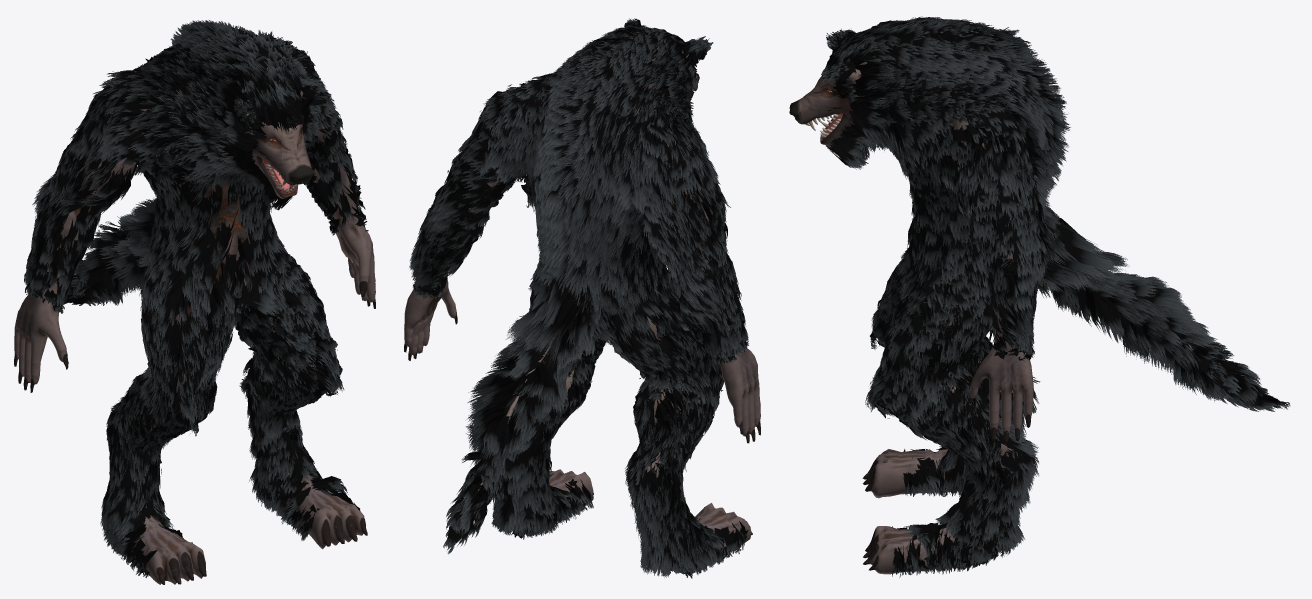
3 views of the same model, side by side, from view 1: azimuth 30°, elevation 25°; view 2: azimuth 150°, elevation 25°; view 3: azimuth 270°, elevation 25° (orthographic).
Parts seen in each view (by area): view 1: Plane, ww_work; view 2: Plane, ww_work; view 3: Plane, ww_work.
Boxes of the visible parts, x1,y1,x2,y2 form: Plane: (24,20,368,577); ww_work: (14,67,375,584); Plane: (409,18,748,578); ww_work: (404,37,760,573); Plane: (821,16,1290,577); ww_work: (789,38,1193,574).
Size of the model in its own units: 142 by 203 by 181.
Materials: 4 (4 with a texture image).
